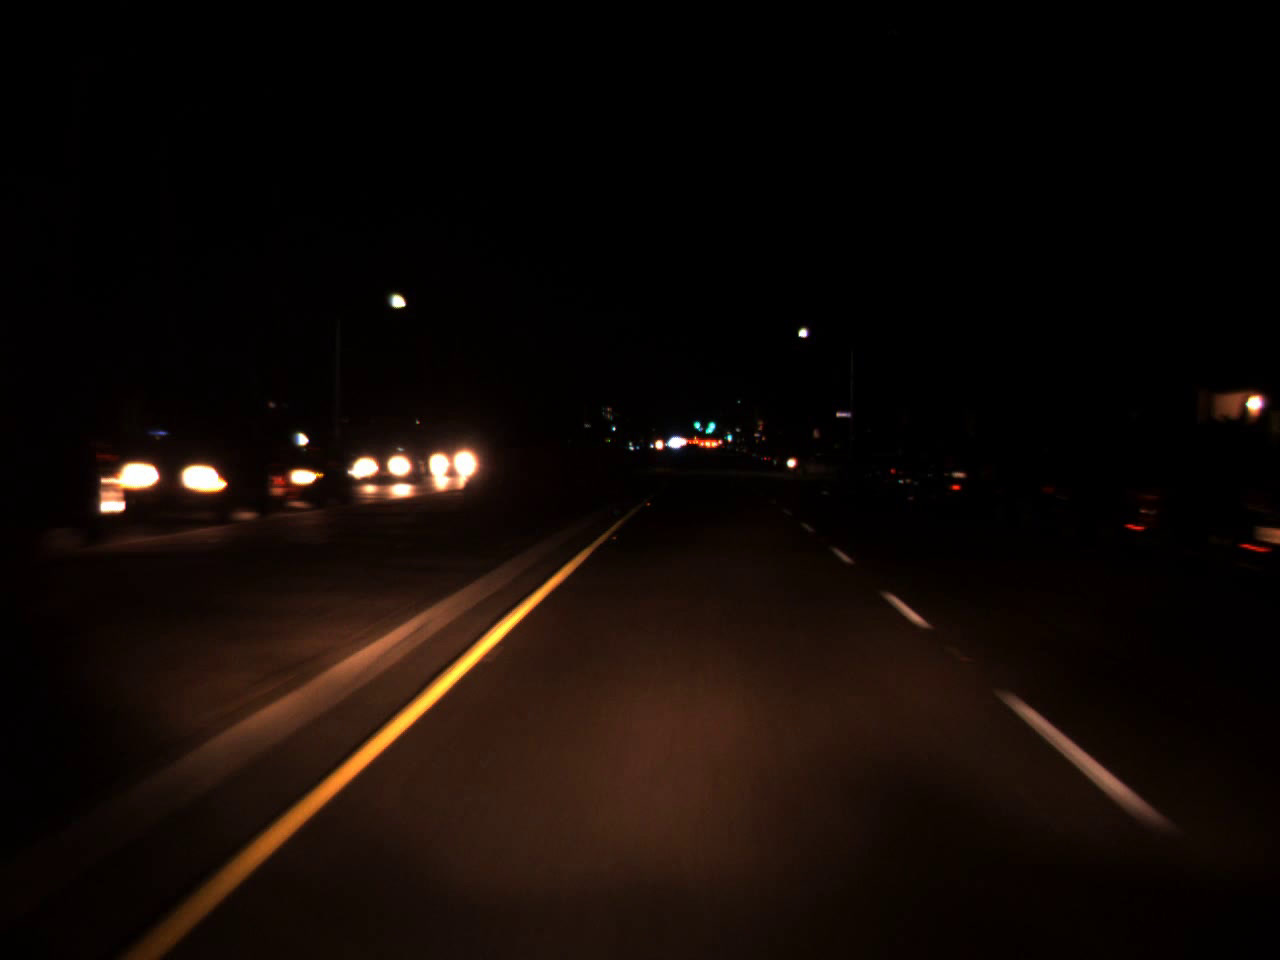go: (703, 410, 716, 434), (724, 425, 733, 443), (691, 414, 701, 429)
